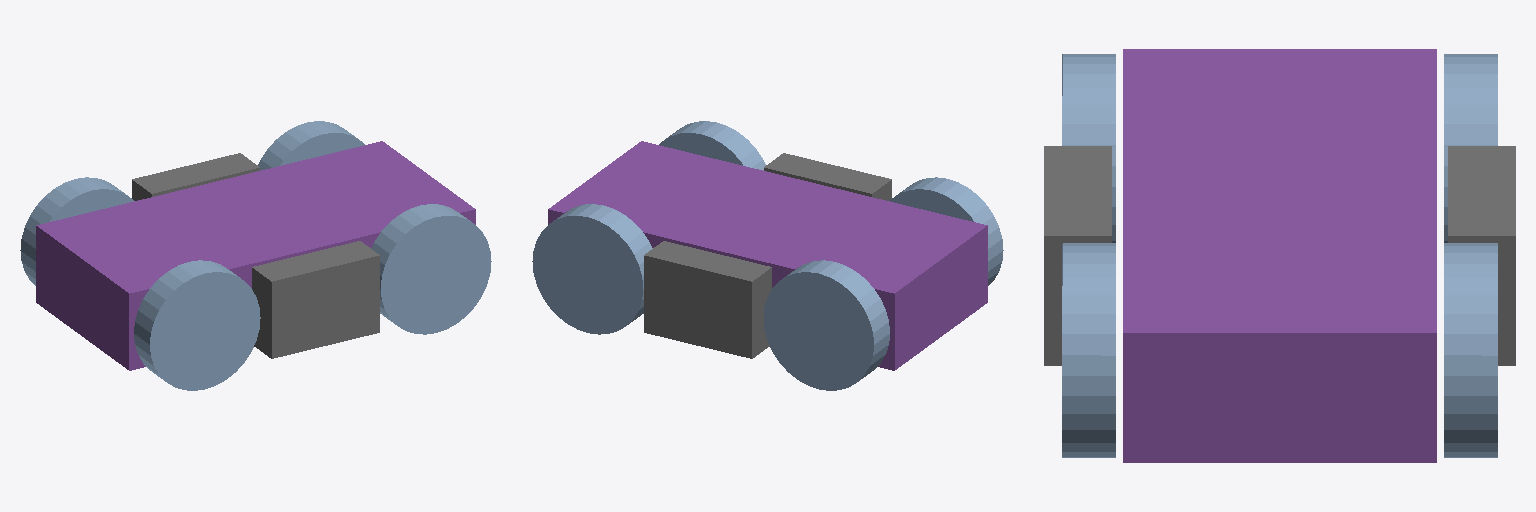
robot.urdf — LCAMP_Robot:
?<?xml version="1.0" encoding="utf-8"?>
<robot name="LCAMP_Robot">
  <link name="center">
    <inertial>
      <origin rpy="0 0 0" xyz="0 0 0" />
      <mass value="50" />
      <inertia ixx="98733.33333333334" ixy="0" ixz="0" iyy="392066.6666666667" iyz="0" izz="456666.6666666667" />
    </inertial>
    <visual>
      <geometry>
        <box size="300 140 64" />
      </geometry>
      <material name="center_material">
        <color rgba="0.6 0.4 0.7 0.5" />
      </material>
    </visual>
    <collision>
      <geometry>
        <box size="300 140 64" />
      </geometry>
    </collision>
  </link>
  <link name="sbFront">
    <inertial>
      <origin rpy="0 0 0" xyz="0 0 0" />
      <mass value="100" />
      <inertia ixx="47466.66666666667" ixy="0" ixz="0" iyy="401633.3333333334" iyz="0" izz="380833.3333333334" />
    </inertial>
    <visual>
      <geometry>
         <mesh filename="[local-path]\Documents\Kooperative Forschung\LCAMP\WP6 CLF\Mobile Robot\CAD-Data\STL-Step-Files\Sensorbox curved_15.STL" scale="1 1 1" />
      </geometry>
      <material name="sbFront_material">
        <color rgba="0.82421875 0.80859375 0.859375 1" />
      </material>
    </visual>
    <collision>
      <geometry>
        <box size="210 40 64" />
      </geometry>
    </collision>
  </link>
  <link name="sbRear">
    <inertial>
      <origin rpy="0 0 0" xyz="0 0 0" />
      <mass value="100" />
      <inertia ixx="47466.66666666667" ixy="0" ixz="0" iyy="401633.3333333334" iyz="0" izz="380833.3333333334" />
    </inertial>
    <visual>
      <geometry>
        <mesh filename="[local-path]\Documents\Kooperative Forschung\LCAMP\WP6 CLF\Mobile Robot\CAD-Data\STL-Step-Files\Sensorbox curved_15.STL" scale="1 1 1" />
      </geometry>
      <material name="sbRear_material">
        <color rgba="0.82421875 0.80859375 0.859375 1" />
      </material>
    </visual>
    <collision>
      <geometry>
        <mesh filename="[local-path]\Documents\Kooperative Forschung\LCAMP\WP6 CLF\Mobile Robot\CAD-Data\STL-Step-Files\Sensorbox curved_15.STL" scale="1 1 1" />
      </geometry>
    </collision>
  </link>
  <link name="hubCup1">
    <inertial>
      <origin rpy="0 0 0" xyz="0 0 0" />
      <mass value="100" />
      <inertia ixx="47466.66666666667" ixy="0" ixz="0" iyy="401633.3333333334" iyz="0" izz="380833.3333333334" />
    </inertial>
    <visual>
      <geometry>
        <mesh filename="[local-path]\Documents\Kooperative Forschung\LCAMP\WP6 CLF\Mobile Robot\DHBW CAD-Data\Wheels\STL-Step-Dateien\Hub_Cup_8.STL" scale="1 1 1" />
      </geometry>
      <material name="hubCup1_material">
        <color rgba="0.53515625 0.80859375 0.9375 1" />
      </material>
    </visual>
	 <visual>
	  <origin xyz="0 0 0.0" rpy="-1.57 0 0"/>
      <geometry>
        <mesh filename="[local-path]\Documents\Kooperative Forschung\LCAMP\WP6 CLF\Mobile Robot\DHBW CAD-Data\Wheels\STL-Step-Dateien\Wheel_Hub.STL" scale="1 1 1" />
      </geometry>
      <material name="hubCup1_material">
        <color rgba="0.53515625 0.80859375 0.9375 1" />
      </material>
    </visual>
    <collision>
      <geometry>
        <mesh filename="[local-path]\Documents\Kooperative Forschung\LCAMP\WP6 CLF\Mobile Robot\DHBW CAD-Data\Wheels\STL-Step-Dateien\Hub_Cup_8.STL" scale="1 1 1" />
      </geometry>
    </collision>
  </link>
  <link name="hubCup2">
    <inertial>
      <origin rpy="0 0 0" xyz="0 0 0" />
      <mass value="100" />
      <inertia ixx="47466.66666666667" ixy="0" ixz="0" iyy="401633.3333333334" iyz="0" izz="380833.3333333334" />
    </inertial>
    <visual>
      <geometry>
        <mesh filename="[local-path]\Documents\Kooperative Forschung\LCAMP\WP6 CLF\Mobile Robot\DHBW CAD-Data\Wheels\STL-Step-Dateien\Hub_Cup_8.STL" scale="1 1 1" />
      </geometry>
      <material name="hubCup2_material">
        <color rgba="0.53515625 0.80859375 0.9375 1" />
      </material>
    </visual>
	 <visual>
	 <origin xyz="0 0 0.0" rpy="-1.57 0 0"/>
      <geometry>
        <mesh filename="[local-path]\Documents\Kooperative Forschung\LCAMP\WP6 CLF\Mobile Robot\DHBW CAD-Data\Wheels\STL-Step-Dateien\Wheel_Hub.STL" scale="1 1 1" />
      </geometry>
      <material name="hubCup1_material">
        <color rgba="0.53515625 0.80859375 0.9375 1" />
      </material>
    </visual>
    <collision>
      <geometry>
        <mesh filename="[local-path]\Documents\Kooperative Forschung\LCAMP\WP6 CLF\Mobile Robot\DHBW CAD-Data\Wheels\STL-Step-Dateien\Hub_Cup_8.STL" scale="1 1 1" />
      </geometry>
    </collision>
  </link>
  <link name="hubCup3">
    <inertial>
      <origin rpy="0 0 0" xyz="0 0 0" />
      <mass value="100" />
      <inertia ixx="47466.66666666667" ixy="0" ixz="0" iyy="401633.3333333334" iyz="0" izz="380833.3333333334" />
    </inertial>
    <visual>
      <geometry>
        <mesh filename="[local-path]\Documents\Kooperative Forschung\LCAMP\WP6 CLF\Mobile Robot\DHBW CAD-Data\Wheels\STL-Step-Dateien\Hub_Cup_8.STL" scale="1 1 1" />
      </geometry>
      <material name="hubCup3_material">
        <color rgba="0.53515625 0.80859375 0.9375 1" />
      </material>
    </visual>
    <collision>
      <geometry>
        <mesh filename="[local-path]\Documents\Kooperative Forschung\LCAMP\WP6 CLF\Mobile Robot\DHBW CAD-Data\Wheels\STL-Step-Dateien\Hub_Cup_8.STL" scale="1 1 1" />
      </geometry>
    </collision>
  </link>
  <link name="hubCup4">
    <inertial>
      <origin rpy="0 0 0" xyz="0 0 0" />
      <mass value="100" />
      <inertia ixx="47466.66666666667" ixy="0" ixz="0" iyy="401633.3333333334" iyz="0" izz="380833.3333333334" />
    </inertial>
    <visual>
      <geometry>
        <mesh filename="[local-path]\Documents\Kooperative Forschung\LCAMP\WP6 CLF\Mobile Robot\DHBW CAD-Data\Wheels\STL-Step-Dateien\Hub_Cup_8.STL" scale="1 1 1" />
      </geometry>
      <material name="hubCup4_material">
        <color rgba="0.53515625 0.80859375 0.9375 1" />
      </material>
    </visual>
    <collision>
      <geometry>
        <mesh filename="[local-path]\Documents\Kooperative Forschung\LCAMP\WP6 CLF\Mobile Robot\DHBW CAD-Data\Wheels\STL-Step-Dateien\Hub_Cup_8.STL" scale="1 1 1" />
      </geometry>
    </collision>
  </link>
  <link name="sbLeft">
    <inertial>
      <origin rpy="0 0 0" xyz="0 0 0" />
      <mass value="50" />
      <inertia ixx="20816.666666666668" ixy="0" ixz="0" iyy="40566.66666666667" iyz="0" izz="53883.333333333336" />
    </inertial>
    <visual>
      <geometry>
        <box size="94 64 30" />
      </geometry>
      <material name="sbLeft_material">
        <color rgba="0.5 0.5 0.5 0.6" />
      </material>
    </visual>
    <collision>
      <geometry>
        <box size="94 64 30" />
      </geometry>
    </collision>
  </link>
  <link name="sbRight">
    <inertial>
      <origin rpy="0 0 0" xyz="0 0 0" />
      <mass value="50" />
      <inertia ixx="20816.666666666668" ixy="0" ixz="0" iyy="40566.66666666667" iyz="0" izz="53883.333333333336" />
    </inertial>
    <visual>
      <geometry>
        <box size="94 64 30" />
      </geometry>
      <material name="sbRight_material">
        <color rgba="0.5 0.5 0.5 0.6" />
      </material>
    </visual>
    <collision>
      <geometry>
        <box size="94 64 30" />
      </geometry>
    </collision>
  </link>
  <link name="wheel_hl">
      <origin rpy="1.57 0 0" xyz="0 0 0" />
    <inertial>
      <mass value="50" />
      <inertia ixx="31200.000000000004" ixy="0" ixz="0" iyy="31200.000000000004" iyz="0" izz="57600" />
    </inertial>
    <visual>
      <geometry>
        <cylinder length="24" radius="48" />
      </geometry>
      <material name="wheel_hl_material">
        <color rgba="0.6 0.7 0.8 0.6" />
      </material>
    </visual>
    <collision>
      <geometry>
        <cylinder length="24" radius="48" />
      </geometry>
    </collision>
  </link>
  <link name="wheel_hr">
    <origin rpy="1.57 0 0" xyz="0 0 0" />
    <inertial>
      <origin rpy="0 0 0" xyz="0 0 0" />
      <mass value="50" />
      <inertia ixx="31200.000000000004" ixy="0" ixz="0" iyy="31200.000000000004" iyz="0" izz="57600" />
    </inertial>
    <visual>
      <geometry>
        <cylinder length="24" radius="48" />
      </geometry>
      <material name="wheel_hr_material">
        <color rgba="0.6 0.7 0.8 0.6" />
      </material>
    </visual>
    <collision>
      <geometry>
        <cylinder length="24" radius="48" />
      </geometry>
    </collision>
  </link>
  <link name="wheel_vl">
    <origin rpy="1.57 0 0" xyz="0 0 0" />
    <inertial>
      <origin rpy="0 0 0" xyz="0 0 0" />
      <mass value="50" />
      <inertia ixx="31200.000000000004" ixy="0" ixz="0" iyy="31200.000000000004" iyz="0" izz="57600" />
    </inertial>
    <visual>
      <geometry>
        <cylinder length="24" radius="48" />
      </geometry>
      <material name="wheel_vl_material">
        <color rgba="0.6 0.7 0.8 0.6" />
      </material>
    </visual>
    <collision>
      <geometry>
        <cylinder length="24" radius="48" />
      </geometry>
    </collision>
  </link>
  <link name="wheel_vr">
    <origin rpy="1.57 0 0" xyz="0 0 0" />
    <inertial>
      <origin rpy="0 0 0" xyz="0 0 0" />
      <mass value="50" />
      <inertia ixx="31200.000000000004" ixy="0" ixz="0" iyy="31200.000000000004" iyz="0" izz="57600" />
    </inertial>
    <visual>
	
      <geometry>
        <cylinder length="24" radius="48" />
      </geometry>
      <material name="wheel_vr_material">
        <color rgba="0.6 0.7 0.8 0.6" />
      </material>
    </visual>
    <collision>
      <geometry>
        <cylinder length="24" radius="48" />
      </geometry>
    </collision>
  </link>
  <joint name="joint_hl" type="continuous">
    <origin rpy="1.57 0 0" xyz="-100 85 0" />
    <parent link="center" />
    <child link="wheel_hl" />
    <axis xyz="0 0 1" />
    <dynamics damping="0.1" friction="0.1" />
  </joint>
  <joint name="joint_hlhc" type="fixed">
    <origin rpy="0 3.141592653589793 0" xyz="0 0 -12" />
    <parent link="wheel_hl" />
    <child link="hubCup1" />
    <axis xyz="0 1 0" />
    <dynamics damping="0.1" friction="0.1" />
  </joint>
  <joint name="joint_hr" type="continuous">
    <origin rpy="1.57 0 0" xyz="-100 -85 0" />
    <parent link="center" />
    <child link="wheel_hr" />
    <axis xyz="0 0 1" />
    <dynamics damping="0.1" friction="0.1" />
  </joint>
  <joint name="joint_hrhc" type="fixed">
    <origin rpy="0 0 0" xyz="0 0 12" />
    <parent link="wheel_hr" />
    <child link="hubCup2" />
    <axis xyz="0 1 0" />
    <dynamics damping="0.1" friction="0.1" />
  </joint>
  <joint name="joint_vl" type="continuous">
    <origin rpy="1.57 0 0" xyz="100 85 0" />
    <parent link="center" />
    <child link="wheel_vl" />
    <axis xyz="0 0 1" />
    <dynamics damping="0.1" friction="0.1" />
  </joint>
  <joint name="joint_vlhc" type="fixed">
    <origin rpy="0 3.141592653589793 0" xyz="0 0 -12" />
    <parent link="wheel_vl" />
    <child link="hubCup3" />
    <axis xyz="0 1 0" />
    <dynamics damping="0.1" friction="0.1" />
  </joint>
  <joint name="joint_vr" type="continuous">
    <origin rpy="1.57 0 0" xyz="100 -85 0" />
    <parent link="center" />
    <child link="wheel_vr" />
    <axis xyz="0 0 1" />
    <dynamics damping="0.1" friction="0.1" />
  </joint>
  <joint name="joint_vrhc" type="fixed">
    <origin rpy="0 0 0" xyz="0 0 12" />
    <parent link="wheel_vr" />
    <child link="hubCup4" />
    <axis xyz="0 1 0" />
    <dynamics damping="0.1" friction="0.1" />
  </joint>
  <joint name="joint_sbFront" type="fixed">
    <origin rpy="-1.5707963267948966 -1.5707963267948966 0" xyz="150 0 -32" />
    <parent link="center" />
    <child link="sbFront" />
    <axis xyz="0 1 0" />
    <dynamics damping="0.1" friction="0.1" />
  </joint>
  <joint name="joint_sbRear" type="fixed">
    <origin rpy="1.5707963267948966 -1.5707963267948966 0" xyz="-150 0 -32" />
    <parent link="center" />
    <child link="sbRear" />
    <axis xyz="0 1 0" />
    <dynamics damping="0.1" friction="0.1" />
  </joint>
  <joint name="joint_sbLeft" type="fixed">
    <origin rpy="1.5707963267948966 0 0" xyz="0 90 0" />
    <parent link="center" />
    <child link="sbLeft" />
    <axis xyz="0 1 0" />
    <dynamics damping="0.1" friction="0.1" />
  </joint>
  <joint name="joint_sbRight" type="fixed">
    <origin rpy="-1.5707963267948966 0 0" xyz="0 -90 0" />
    <parent link="center" />
    <child link="sbRight" />
    <axis xyz="0 1 0" />
    <dynamics damping="0.1" friction="0.1" />
  </joint>
</robot>

--- Facts derived from the render (not from the file) ---
Views: 3 orthographic renders of the robot side by side, from view 1: azimuth 30°, elevation 25°; view 2: azimuth 150°, elevation 25°; view 3: azimuth 270°, elevation 25°.
Model LCAMP_Robot with 13 links and 12 joints (4 continuous, 8 fixed), rooted at center, posed every joint at zero.
Links seen in each view (by area): view 1: center, wheel_hr, wheel_vr, sbRight, wheel_hl, wheel_vl, sbLeft; view 2: center, wheel_hl, wheel_vl, sbLeft, wheel_hr, wheel_vr, sbRight; view 3: center, wheel_vl, wheel_vr, sbRight, sbLeft, wheel_hl, wheel_hr.
Link boxes in pixels (x1=…): center: x1=36, y1=141, x2=475, y2=370; wheel_hr: x1=134, y1=260, x2=260, y2=390; wheel_vr: x1=371, y1=204, x2=491, y2=334; sbRight: x1=252, y1=241, x2=379, y2=358; wheel_hl: x1=20, y1=177, x2=133, y2=285; wheel_vl: x1=258, y1=121, x2=364, y2=170; sbLeft: x1=132, y1=153, x2=259, y2=200; center: x1=548, y1=141, x2=987, y2=370; wheel_hl: x1=763, y1=260, x2=889, y2=390; wheel_vl: x1=532, y1=204, x2=652, y2=334; sbLeft: x1=644, y1=241, x2=771, y2=358; wheel_hr: x1=890, y1=177, x2=1003, y2=285; wheel_vr: x1=659, y1=121, x2=765, y2=170; sbRight: x1=764, y1=153, x2=891, y2=200; center: x1=1123, y1=49, x2=1436, y2=462; wheel_vl: x1=1444, y1=243, x2=1497, y2=457; wheel_vr: x1=1062, y1=243, x2=1115, y2=457; sbRight: x1=1044, y1=146, x2=1111, y2=365; sbLeft: x1=1448, y1=146, x2=1515, y2=365; wheel_hl: x1=1444, y1=54, x2=1497, y2=242; wheel_hr: x1=1062, y1=54, x2=1115, y2=242.
Size in the robot's own frame: 300 by 210 by 96.02 metres.
Geometry: only primitive shapes (box / cylinder / sphere) drawn; not drawn: 8 mesh visuals (reference in a form the renderer does not follow).